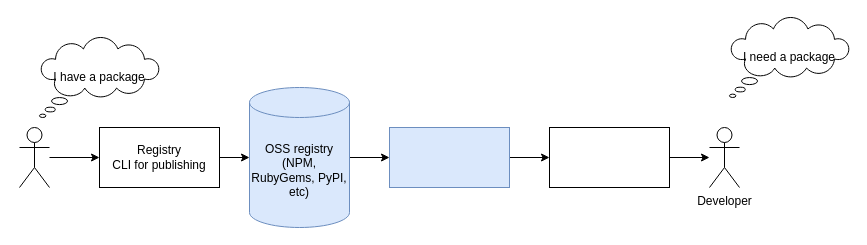
Some shapes in this 867 by 245 pixel diagram are drawn without their labels. Here are the shapes that lost their labels. From the top down, the centre of each, then its label:
At point (34, 157): "Author".
At point (449, 157): "Package manager".
At point (609, 157): "Developed software".
